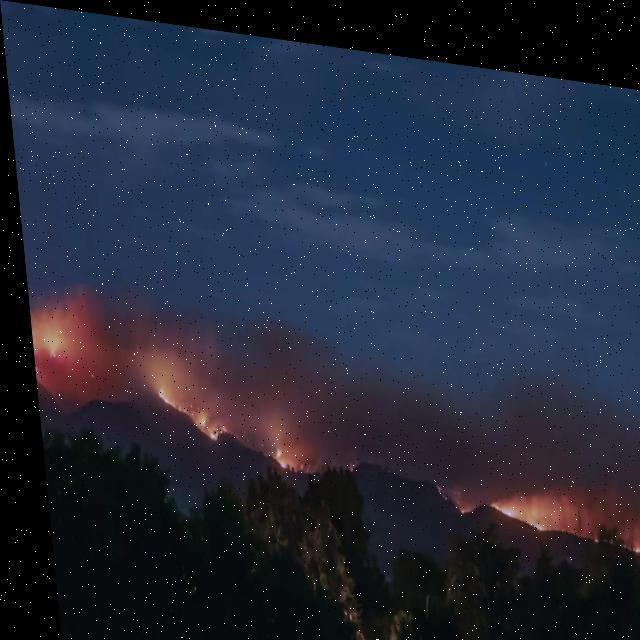Fire: (151, 376, 226, 431), (481, 478, 545, 518), (30, 298, 58, 362), (264, 432, 296, 470), (617, 517, 639, 552), (449, 494, 462, 504)
